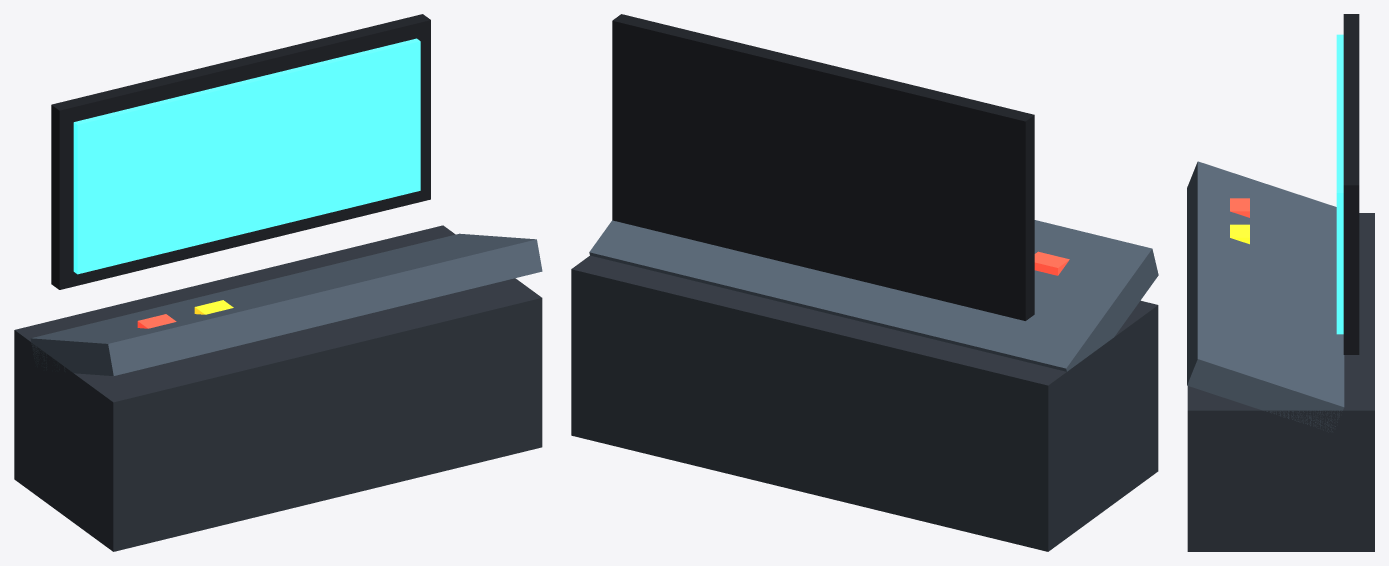
File: interior_control_console.glb
The picture shows the model from 3 angles, left to right: view 1: azimuth 30°, elevation 25°; view 2: azimuth 150°, elevation 25°; view 3: azimuth 270°, elevation 25°; orthographic projection. The views are drawn at different scales.
Visible parts, largest first — view 1: interior_control_console_steelDark, interior_control_console_glow, interior_control_console_steel, interior_control_console_black; view 2: interior_control_console_steelDark, interior_control_console_black, interior_control_console_steel; view 3: interior_control_console_steel, interior_control_console_steelDark, interior_control_console_black, interior_control_console_glow, interior_control_console_glowAmber, interior_control_console_glowRed.
Boxes of the visible parts, x1=… form: interior_control_console_steelDark: x1=14, y1=225, x2=542, y2=551; interior_control_console_glow: x1=73, y1=38, x2=420, y2=274; interior_control_console_steel: x1=30, y1=233, x2=542, y2=376; interior_control_console_black: x1=51, y1=14, x2=430, y2=289; interior_control_console_steelDark: x1=571, y1=255, x2=1158, y2=551; interior_control_console_black: x1=612, y1=14, x2=1034, y2=320; interior_control_console_steel: x1=589, y1=220, x2=1158, y2=371; interior_control_console_steel: x1=1187, y1=161, x2=1344, y2=432; interior_control_console_steelDark: x1=1187, y1=213, x2=1374, y2=551; interior_control_console_black: x1=1343, y1=14, x2=1359, y2=354; interior_control_console_glow: x1=1336, y1=34, x2=1343, y2=334; interior_control_console_glowAmber: x1=1230, y1=224, x2=1249, y2=244; interior_control_console_glowRed: x1=1230, y1=198, x2=1249, y2=217.
Bounding box in the file's own units: 3 × 2.5 × 1.2.
